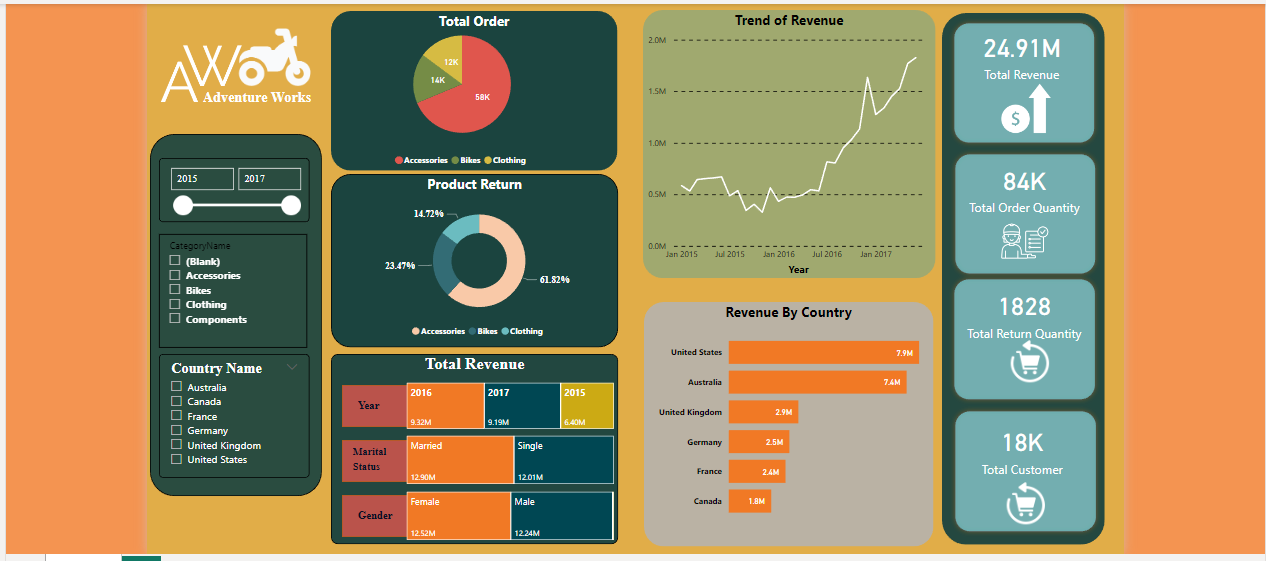

This screenshot's page, from the dashboard's own definition file:
{"tool":"powerbi","page":{"name":"Page 1","canvas":[1280,720],"ordinal":0},"visuals":[{"type":"group","id":"g1","title":"Group 2","box":[648.8,7.7,383,351.4],"z":0},{"type":"shape","box":[1049.9,17.9,196.7,170.1],"z":0,"group":"g6"},{"type":"textbox","box":[67.7,105.1,161.3,40.3],"z":0,"group":"g3"},{"type":"shape","box":[1051.2,189.8,196.7,170.1],"z":0,"group":"g4"},{"type":"shape","title":"Category Name","box":[241.2,222.1,376.3,227.1],"z":0},{"type":"shape","box":[1049.8,353.5,198,171.5],"z":0,"group":"g5"},{"type":"shape","box":[241.2,458.8,376.5,248.5],"z":0},{"type":"shape","box":[1051.2,525.9,198,171.5],"z":0,"group":"g7"},{"type":"card","fields":{"Values":["total_transaction.Total Revenue"]},"box":[1041.1,0,208.8,131],"z":1000,"group":"g6"},{"type":"image","box":[0,21.6,142.6,136.8],"z":1000,"group":"g3"},{"type":"card","fields":{"Values":["total_transaction.Total Order Quantity"]},"box":[1059.6,168.6,178.6,141.1],"z":1000,"group":"g4"},{"type":"donutChart","title":"Category Name","fields":{"Category":["AW_Product_Categories.CategoryName"],"Y":["AW_Returns.Total Return Quantity"]},"box":[268.9,252.3,332.8,193.3],"z":1000},{"type":"card","fields":{"Values":["AW_Returns.Total Return Quantity"]},"box":[1056.4,348.5,184.3,112.3],"z":1000,"group":"g5"},{"type":"group","id":"g2","title":"Group 2","box":[650.9,390.2,378.7,319.7],"z":1000},{"type":"shape","box":[255.7,498.2,312.9,55.3],"z":1000},{"type":"card","fields":{"Values":["AW_Customers.Total Customer"]},"box":[1054.4,525.6,184.3,112.3],"z":1000,"group":"g7"},{"type":"shape","title":"Category Name","box":[241.2,8.8,375,208.8],"z":2000},{"type":"image","box":[1110,85,80.6,102.2],"z":2000,"group":"g6"},{"type":"image","box":[1109.7,258.9,78.4,101],"z":2000,"group":"g4"},{"type":"image","box":[1123,427.2,64.8,82.1],"z":2000,"group":"g5"},{"type":"image","box":[1117.7,612.3,65.1,82.4],"z":2000,"group":"g7"},{"type":"shape","box":[255.6,642.3,312.2,55.1],"z":2000},{"type":"pieChart","title":"Category Name","fields":{"Category":["AW_Product_Categories.CategoryName"],"Y":["total_transaction.Total Order Quantity"]},"box":[274.9,14.4,274.9,208.1],"z":3000},{"type":"shape","box":[255.7,570.2,312.9,55.3],"z":3000},{"type":"shape","box":[1041.3,11.3,212.9,695.7],"z":4000},{"type":"shape","box":[4.4,170.6,225,473.5],"z":5000},{"type":"shape","title":"Category Name","box":[648.8,7.7,383,351.4],"z":5500,"group":"g1"},{"type":"group","id":"g3","title":"Group 1","box":[0,21.6,229,136.8],"z":6000},{"type":"shape","title":"Category Name","box":[650.9,390.2,378.7,319.7],"z":6000,"group":"g2"},{"type":"slicer","fields":{"Values":["AW_Calendar.Year"]},"box":[16.2,201.5,197.1,83.8],"z":7000},{"type":"slicer","title":"Category","fields":{"Values":["AW_Territories.Country"]},"box":[16.2,458.8,197.1,161.8],"z":8000},{"type":"treemap","fields":{"Group":["AW_Calendar.Year"],"Values":["total_transaction.Total Revenue"]},"box":[335.7,491,281.4,69.7],"z":8000},{"type":"group","id":"g4","title":"Group 3","box":[1051.2,168.6,196.7,191.3],"z":9000},{"type":"group","id":"g5","title":"Group 4","box":[1049.8,348.5,198.7,177.1],"z":10000},{"type":"group","id":"g6","title":"Group 5","box":[1041.1,0,208.8,188],"z":11000},{"type":"treemap","fields":{"Group":["AW_Customers.Gender"],"Values":["total_transaction.Total Revenue"]},"box":[335.6,633.9,281.1,72.9],"z":11000},{"type":"treemap","fields":{"Values":["total_transaction.Total Revenue"],"Group":["AW_Customers.marital_status"]},"box":[335.7,560.6,281.4,73.3],"z":12000},{"type":"group","id":"g7","title":"Group 4","box":[1051.2,525.6,198.7,171.4],"z":13000},{"type":"slicer","fields":{"Values":["AW_Product_Categories.CategoryName"]},"box":[16.2,301.5,194.1,148.5],"z":14000},{"type":"barChart","fields":{"Category":["AW_Territories.Country"],"Y":["total_transaction.Total Revenue"]},"box":[663.8,411.8,354.2,275],"z":16000},{"type":"lineChart","fields":{"Category":["AW_Calendar.Date.Variation.Date Hierarchy.Year","AW_Calendar.Date.Variation.Date Hierarchy.Quarter","AW_Calendar.Date.Variation.Date Hierarchy.Month","AW_Calendar.Date.Variation.Date Hierarchy.Day"],"Y":["total_transaction.Total Revenue"]},"box":[650.9,33.1,381.6,326.9],"z":17000},{"type":"image","box":[105.1,21.6,123.8,93.6],"z":17001},{"type":"textbox","box":[271.1,510.6,50,29],"z":20000},{"type":"textbox","box":[271.4,654.3,64.3,31.2],"z":21000},{"type":"textbox","box":[264.4,570.8,70.6,54.4],"z":22000}]}

Visuals, with their boxes in screenshot pixels (x1, y1, x2, y2):
"Group 2" group: box=[640, 6, 934, 276]
shape: box=[948, 14, 1099, 144]
textbox: box=[194, 81, 318, 112]
shape: box=[949, 146, 1100, 276]
"Category Name" shape: box=[327, 170, 616, 345]
shape: box=[948, 271, 1100, 403]
shape: box=[327, 352, 616, 543]
shape: box=[949, 404, 1101, 535]
card - total_transaction.Total Revenue: box=[941, 0, 1101, 101]
image: box=[142, 17, 251, 122]
card - total_transaction.Total Order Quantity: box=[955, 129, 1092, 238]
"Category Name" donutChart: box=[348, 194, 604, 342]
card - AW_Returns.Total Return Quantity: box=[953, 268, 1094, 354]
"Group 2" group: box=[641, 300, 932, 545]
shape: box=[338, 382, 578, 425]
card - AW_Customers.Total Customer: box=[951, 403, 1093, 490]
"Category Name" shape: box=[327, 7, 615, 167]
image: box=[994, 65, 1056, 144]
image: box=[994, 199, 1054, 276]
image: box=[1004, 328, 1054, 391]
image: box=[1000, 470, 1050, 533]
shape: box=[338, 493, 578, 535]
"Category Name" pieChart: box=[353, 11, 564, 171]
shape: box=[338, 438, 578, 480]
shape: box=[941, 9, 1105, 543]
shape: box=[145, 131, 318, 494]
"Category Name" shape: box=[640, 6, 934, 276]
"Group 1" group: box=[142, 17, 318, 122]
"Category Name" shape: box=[641, 300, 932, 545]
slicer - AW_Calendar.Year: box=[154, 155, 306, 219]
"Category" slicer: box=[154, 352, 306, 476]
treemap - AW_Calendar.Year x total_transaction.Total Revenue: box=[399, 377, 615, 430]
"Group 3" group: box=[949, 129, 1100, 276]
"Group 4" group: box=[948, 268, 1100, 403]
"Group 5" group: box=[941, 0, 1101, 144]
treemap - AW_Customers.Gender x total_transaction.Total Revenue: box=[399, 487, 615, 543]
treemap - total_transaction.Total Revenue x AW_Customers.marital_status: box=[399, 430, 615, 487]
"Group 4" group: box=[949, 403, 1101, 535]
slicer - AW_Product_Categories.CategoryName: box=[154, 231, 303, 345]
barChart - AW_Territories.Country x total_transaction.Total Revenue: box=[651, 316, 923, 527]
lineChart - AW_Calendar.Date.Variation.Date Hierarchy.Year x AW_Calendar.Date.Variation.Date Hierarchy.Quarter: box=[641, 25, 934, 276]
image: box=[222, 17, 317, 88]
textbox: box=[350, 392, 388, 414]
textbox: box=[350, 502, 399, 526]
textbox: box=[345, 438, 399, 480]
